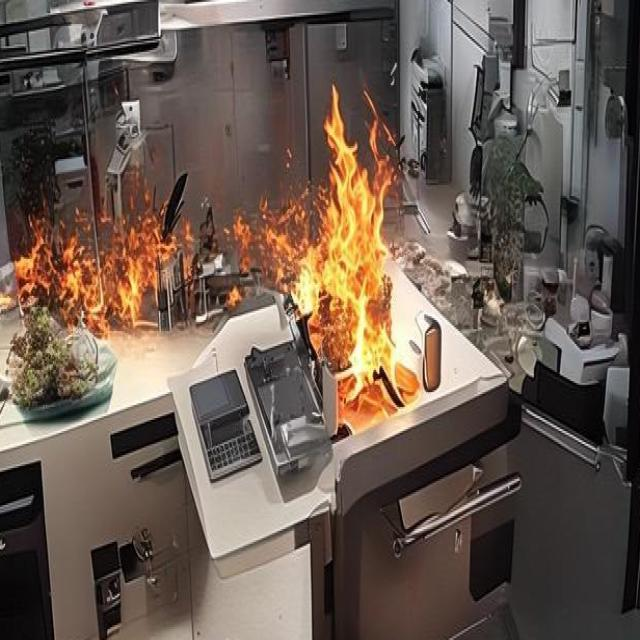smoke: (287, 80, 402, 398), (13, 170, 178, 342)
